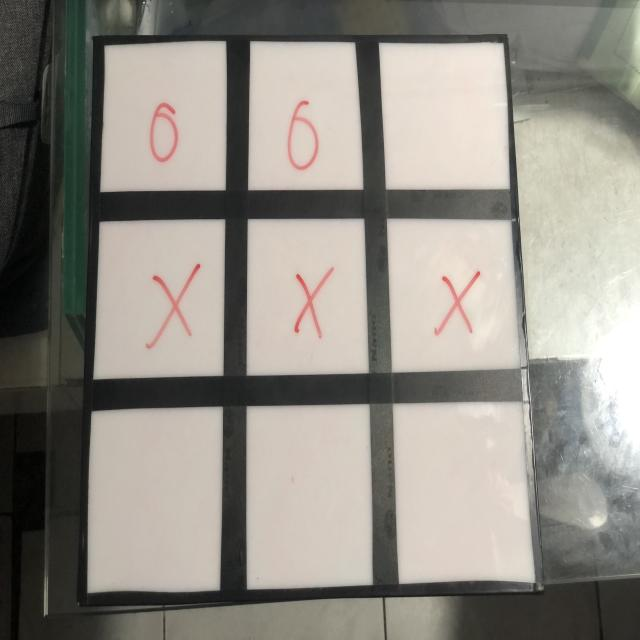null: (85, 402, 224, 598), (392, 401, 535, 585), (243, 400, 375, 591), (378, 35, 512, 196)
o: (282, 102, 327, 174), (146, 100, 187, 168)
table: (73, 35, 541, 601)
x: (148, 265, 202, 356), (431, 267, 483, 342), (289, 267, 337, 344)
